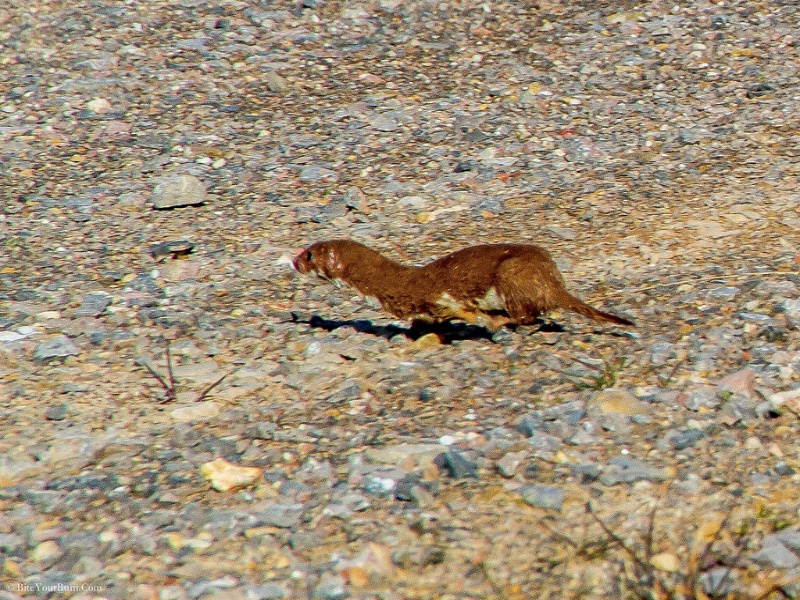minkish: (288, 237, 640, 341)
